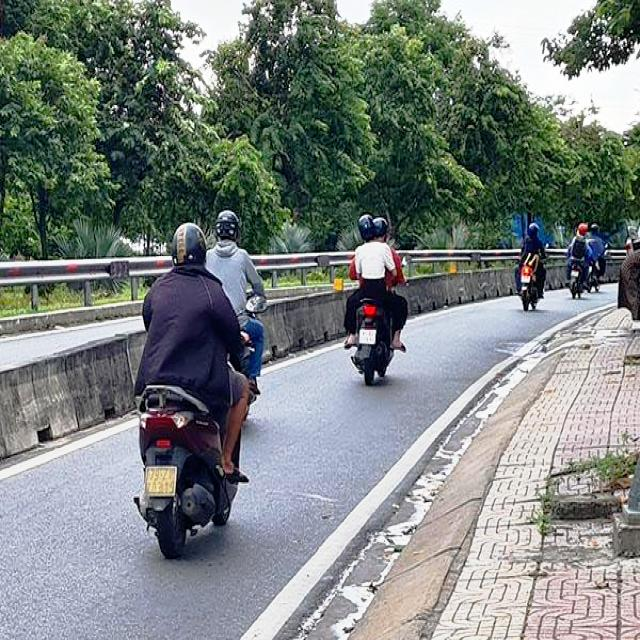license_plate: (147, 468, 177, 497)
